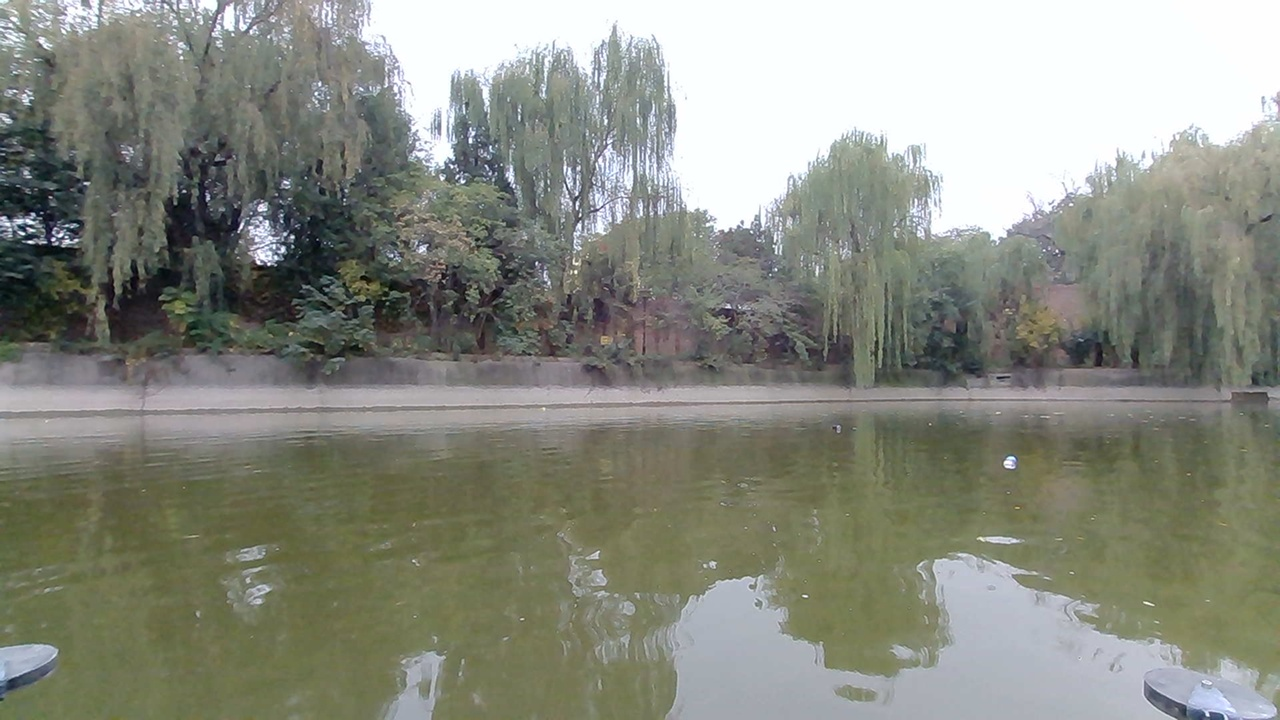bottle: (988, 446, 1027, 475), (816, 415, 844, 441)
